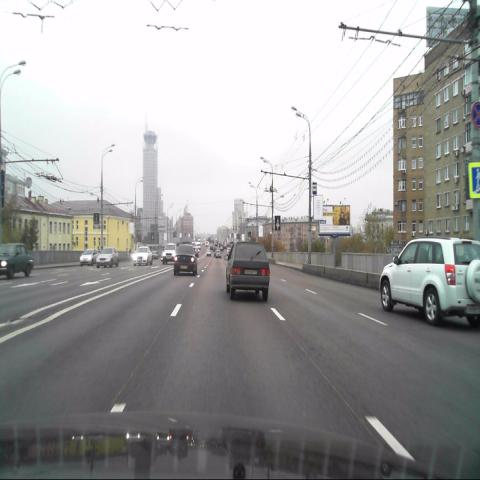6_6: (469, 162, 480, 197)
